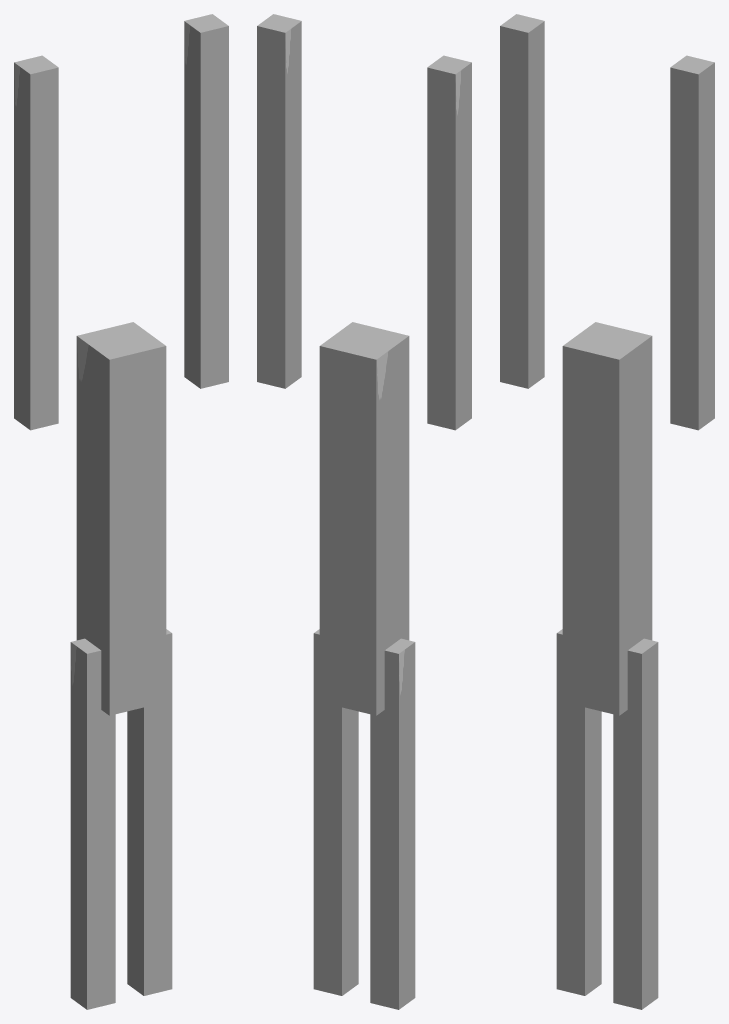
The model's file is slenderman.glb.
3 renders of one model, left to right at view 1: azimuth 30°, elevation 25°; view 2: azimuth 150°, elevation 25°; view 3: azimuth 330°, elevation 25°, orthographic.
Parts seen in each view (by area): view 1: SlenderManBody; view 2: SlenderManBody; view 3: SlenderManBody.
Part boxes in pixels (left/top/right/bottom): SlenderManBody: left=14, top=14, right=228, bottom=1009; SlenderManBody: left=257, top=14, right=471, bottom=1009; SlenderManBody: left=500, top=14, right=714, bottom=1009.
Bounding box in the file's own units: 1.75 × 8 × 0.5.
1 material, 1 textured.
